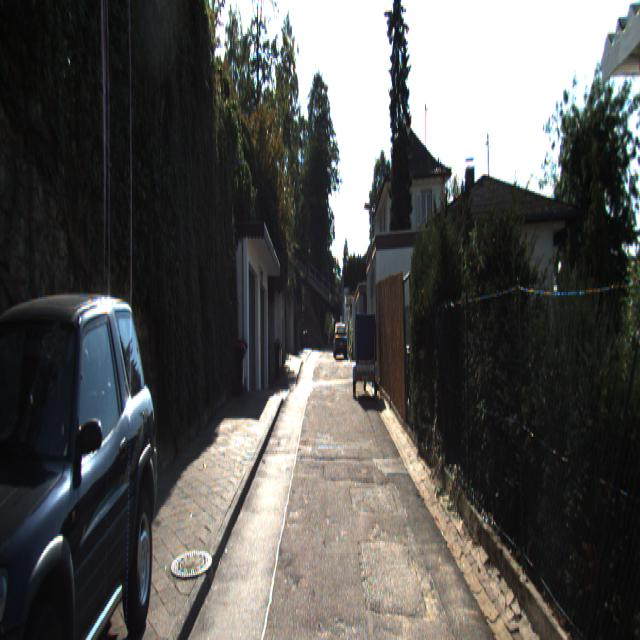Car: (0, 309, 173, 638), (353, 310, 379, 402), (333, 321, 348, 360)
